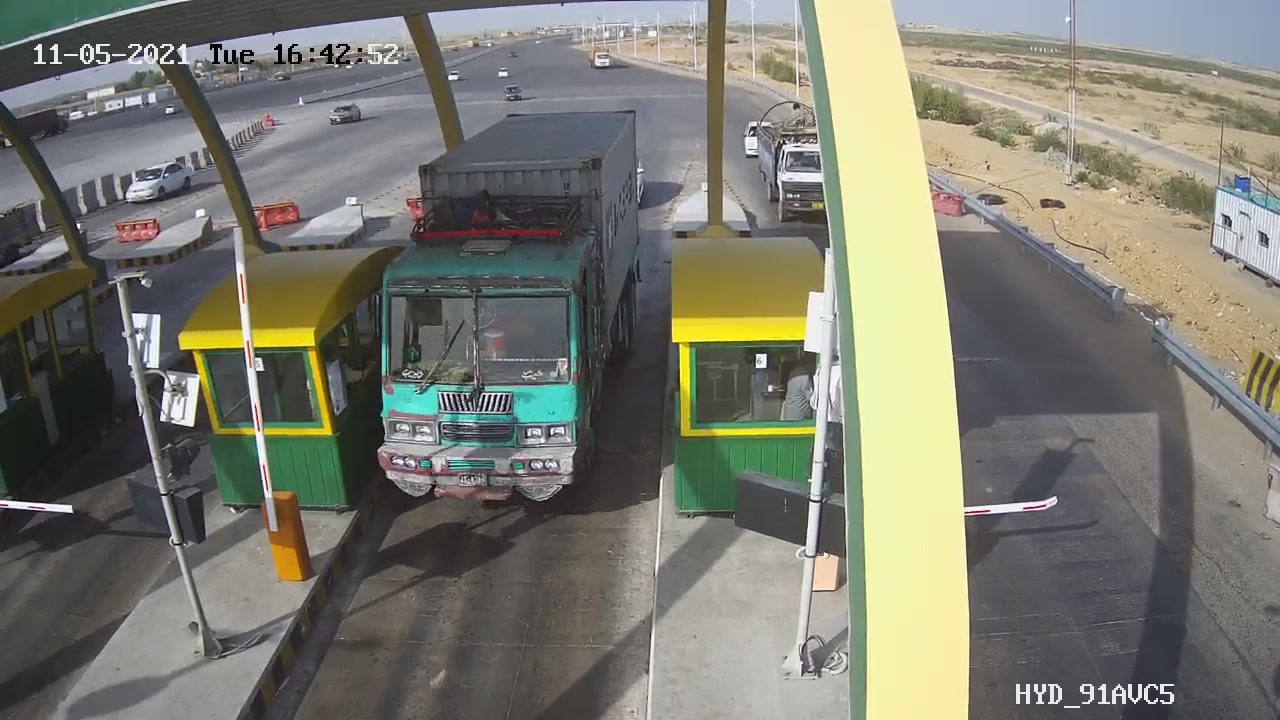F6: (357, 90, 666, 528)
